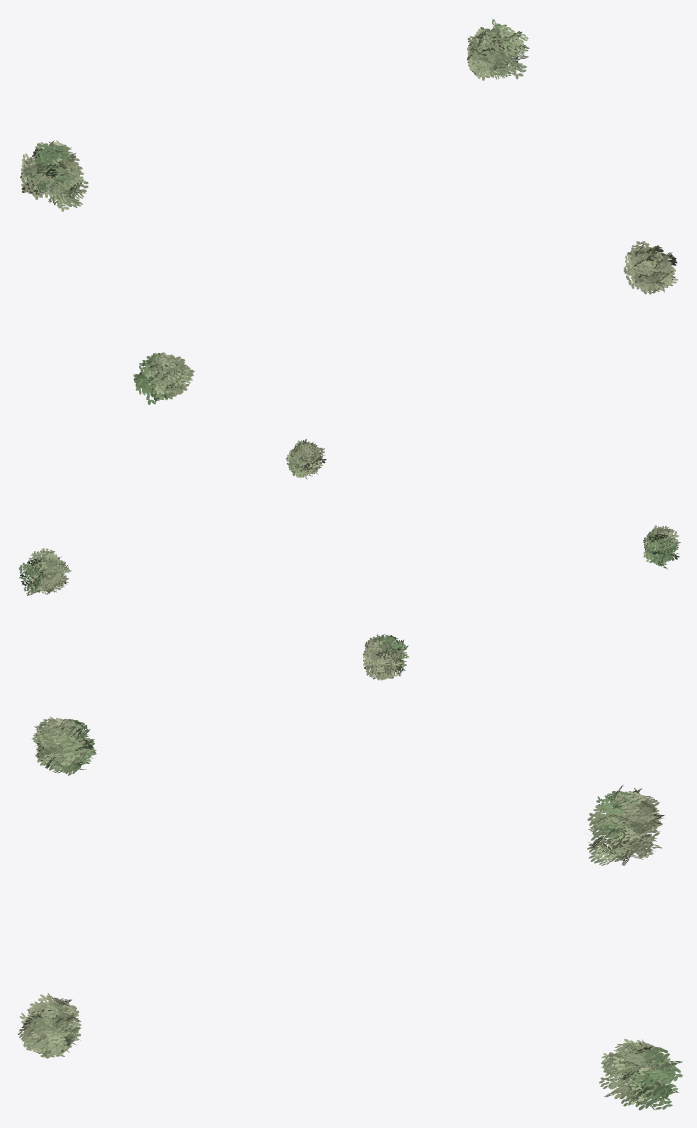
The model's file is campus-tree-4_-3-middle.glb.
3 renders of one model, top to bottom at view 1: azimuth 30°, elevation 25°; view 2: azimuth 150°, elevation 25°; view 3: azimuth 270°, elevation 25°, orthographic. The views are drawn at different scales.
Parts seen in each view (by area): view 1: Campus leaf canopy; view 2: Campus leaf canopy; view 3: Campus leaf canopy.
Boxes of the visible parts, x1=… form: Campus leaf canopy: x1=20, y1=19, x2=677, y2=404; Campus leaf canopy: x1=19, y1=439, x2=680, y2=680; Campus leaf canopy: x1=17, y1=716, x2=682, y2=1110.
Bounding box in the file's own units: 59.78 × 6.27 × 46.47.
1 material, 1 textured.
